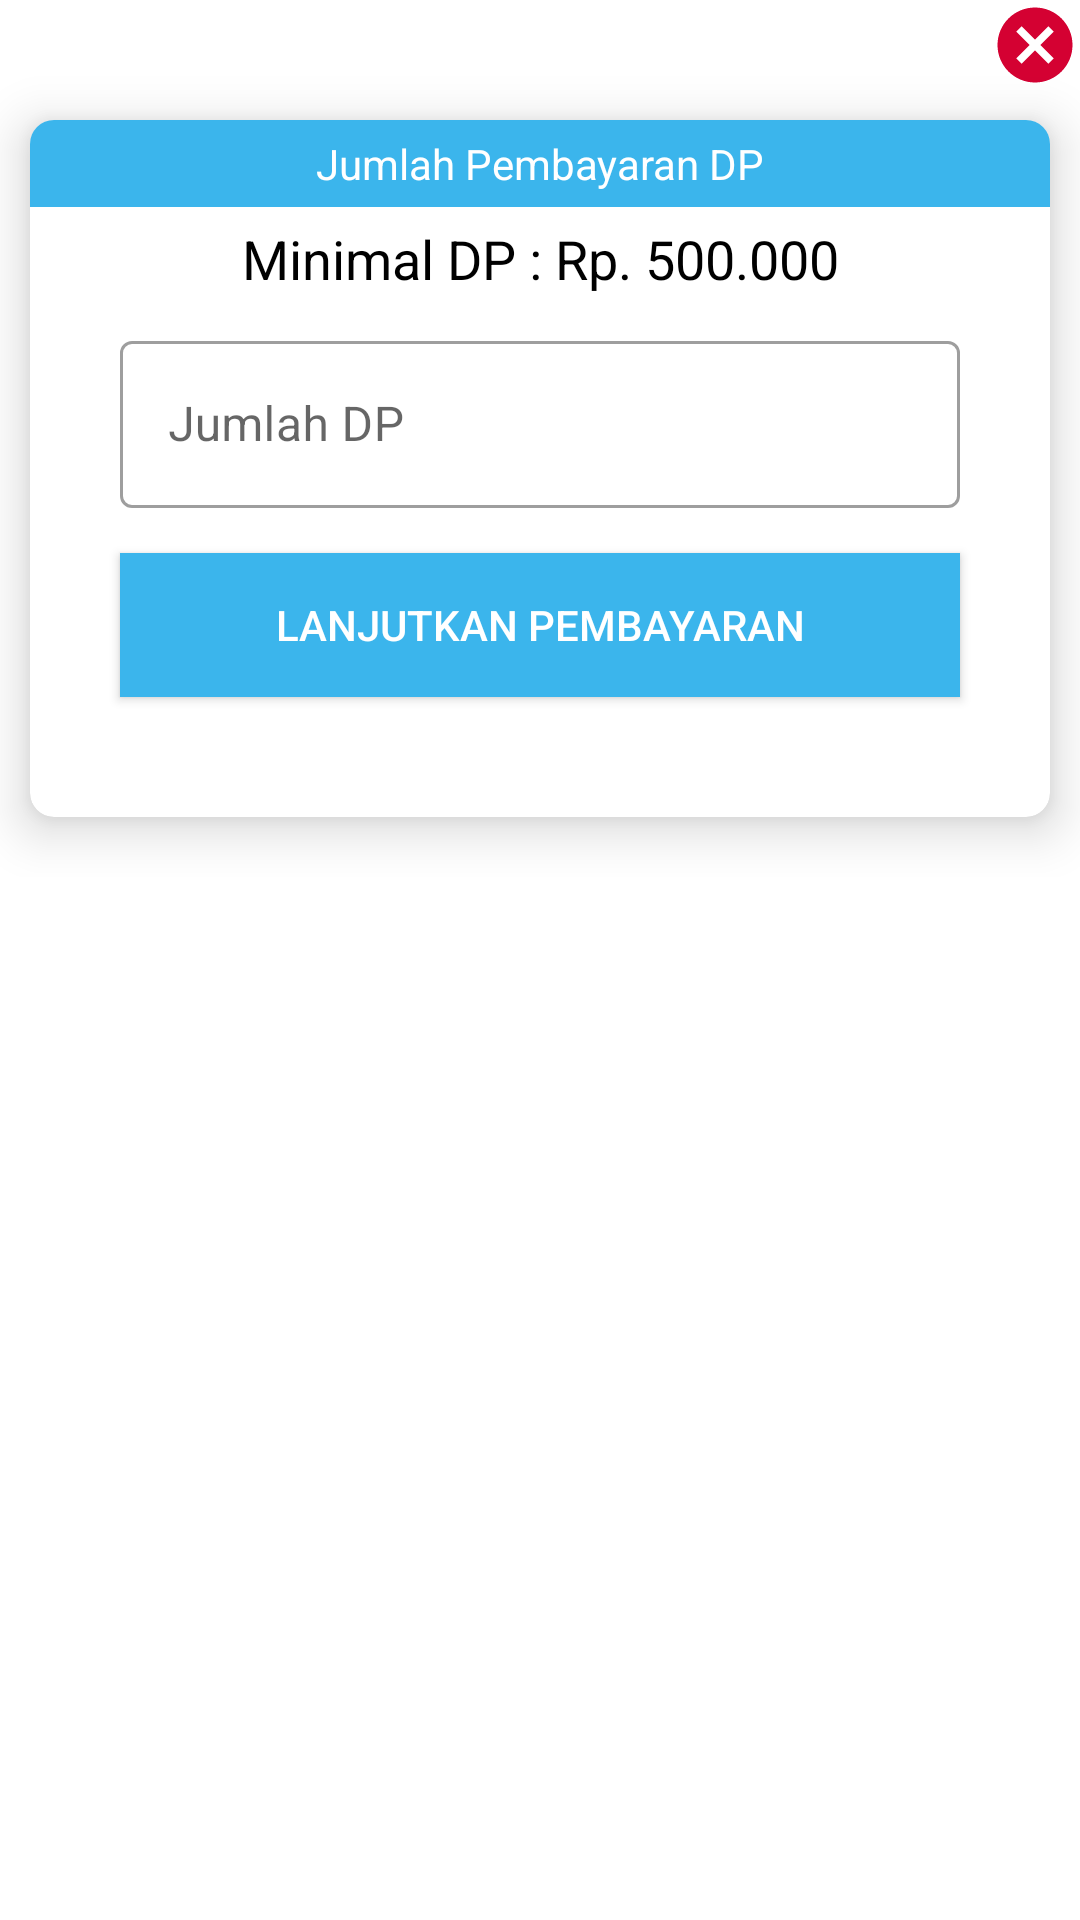

Screen size 1080px x 1920px. Icon name, then its center in pixels as point (x, y):
cancel: point (1035, 45)
